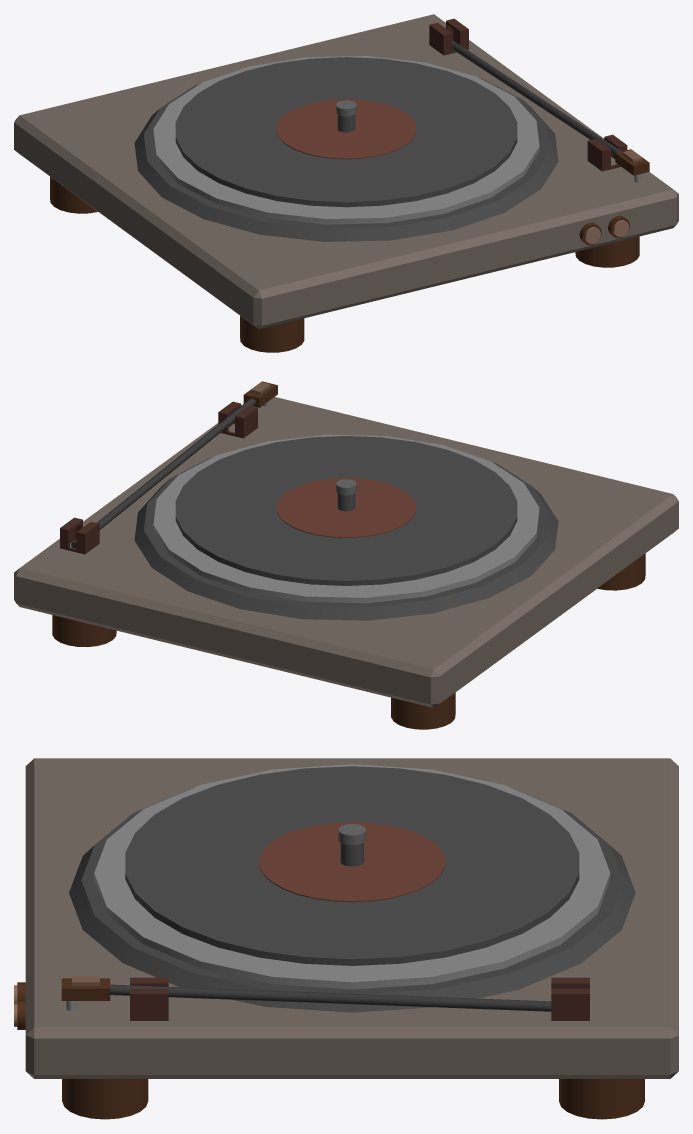
Rendered from colored pick up vinyl.fbx.
3 renders of one model, top to bottom at view 1: azimuth 30°, elevation 25°; view 2: azimuth 150°, elevation 25°; view 3: azimuth 270°, elevation 25°, orthographic. The views are drawn at different scales.
Parts seen in each view (by area): view 1: pCube1, pCylinder4, pCylinder3, pCylinder2, pCylinder6, pCube6, pCylinder7, pCylinder11, pCylinder8, pCylinder10; view 2: pCube1, pCylinder4, pCylinder3, pCylinder2, pCylinder6, pCube6, pCylinder10, pCylinder11, pCylinder9, pCylinder7; view 3: pCube1, pCylinder4, pCylinder3, pCylinder2, pCylinder6, pCylinder11, pCube6, pCylinder8, pCylinder9, pCube4, pCylinder5.
Part boxes in pixels (x1,y1,x2,y2): pCube1: (14,14,678,329); pCylinder4: (175,57,517,207); pCylinder3: (153,56,539,224); pCylinder2: (134,78,558,241); pCylinder6: (276,99,416,159); pCube6: (429,18,627,171); pCylinder7: (240,316,304,352); pCylinder11: (452,40,621,155); pCylinder8: (575,236,639,267); pCylinder10: (50,176,97,213); pCube1: (14,397,678,707); pCylinder4: (175,436,517,585); pCylinder3: (153,434,539,603); pCylinder2: (134,457,558,620); pCylinder6: (276,478,416,537); pCube6: (60,401,257,554); pCylinder10: (391,692,455,729); pCylinder11: (71,398,255,548); pCylinder9: (52,615,116,646); pCylinder7: (597,553,645,590); pCube1: (25,758,678,1078); pCylinder4: (125,766,579,965); pCylinder3: (94,764,610,989); pCylinder2: (69,787,635,1012); pCylinder6: (259,822,445,902); pCylinder11: (110,984,551,1011); pCube6: (130,977,589,1020); pCylinder8: (62,1079,148,1119); pCylinder9: (559,1079,644,1119); pCube4: (61,978,110,1000); pCylinder5: (338,824,365,845).
Size of the model in its own units: 0.5907 by 0.1621 by 0.6012.
